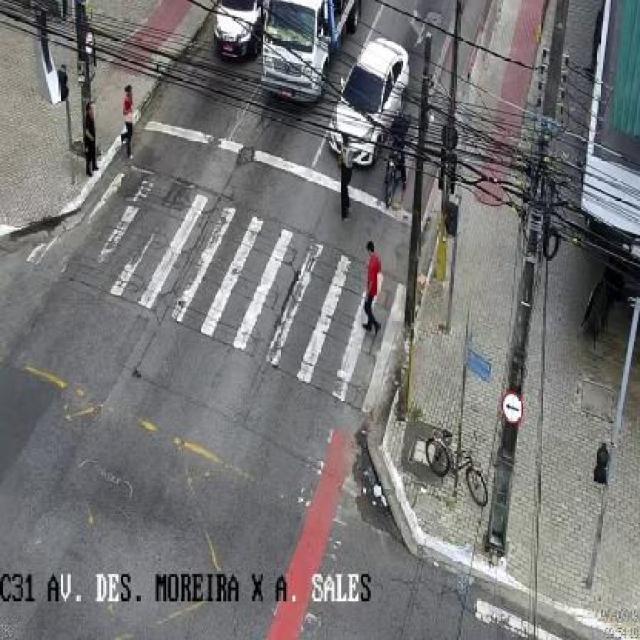Car: (331, 34, 414, 167)
Cycle: (425, 422, 488, 508)
Truck: (258, 0, 361, 103)
